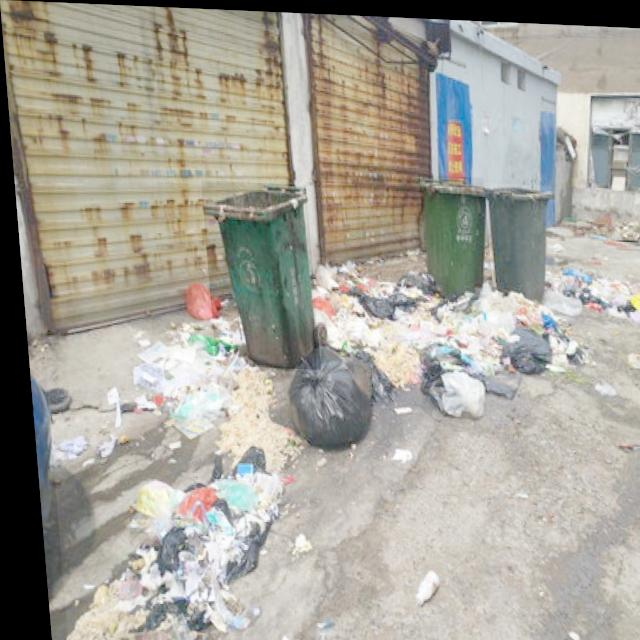garbage_bin: (198, 179, 315, 367), (416, 171, 489, 296), (482, 178, 556, 297)
overflow: (32, 245, 640, 640)
